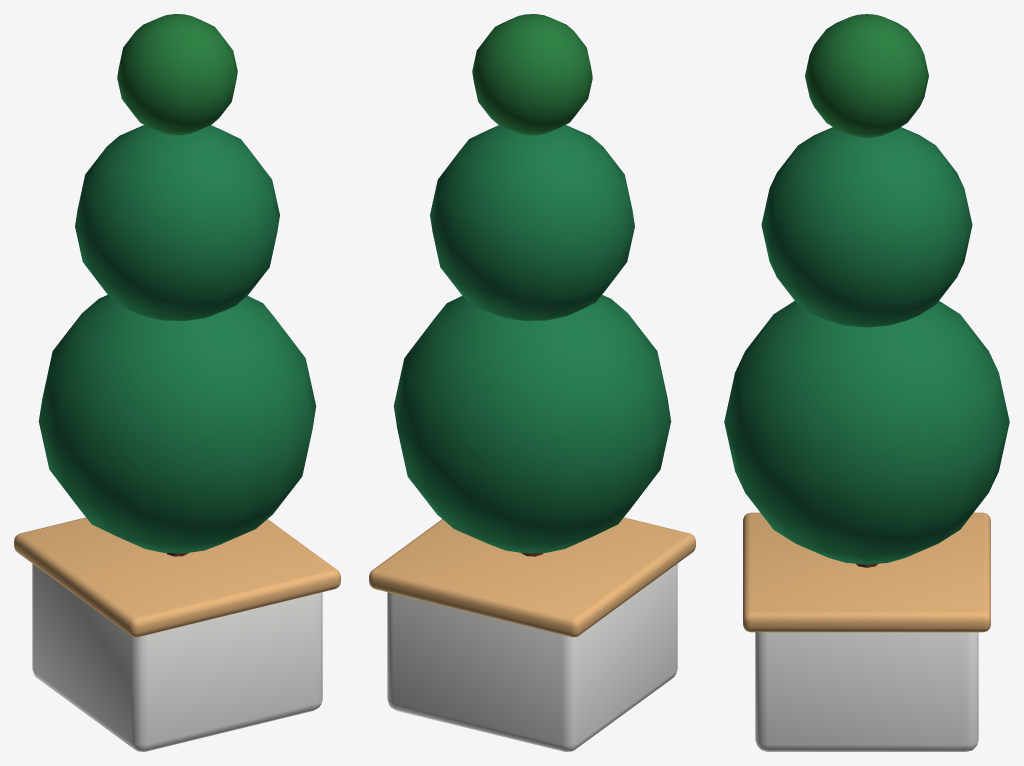
The model's file is topiaria_bolas.glb.
The picture shows the model from 3 angles, left to right: view 1: azimuth 30°, elevation 25°; view 2: azimuth 150°, elevation 25°; view 3: azimuth 270°, elevation 25°; orthographic projection. The views are drawn at different scales.
Parts seen in each view (by area): view 1: topiaria_bolas; view 2: topiaria_bolas; view 3: topiaria_bolas.
Boxes of the visible parts, left/top/right/bottom form: topiaria_bolas: left=14, top=14, right=340, bottom=751; topiaria_bolas: left=369, top=14, right=695, bottom=751; topiaria_bolas: left=724, top=14, right=1009, bottom=751.
Bounding box in the file's own units: 0.92 × 2.45 × 0.92.
Materials: 1 (1 with a texture image).
